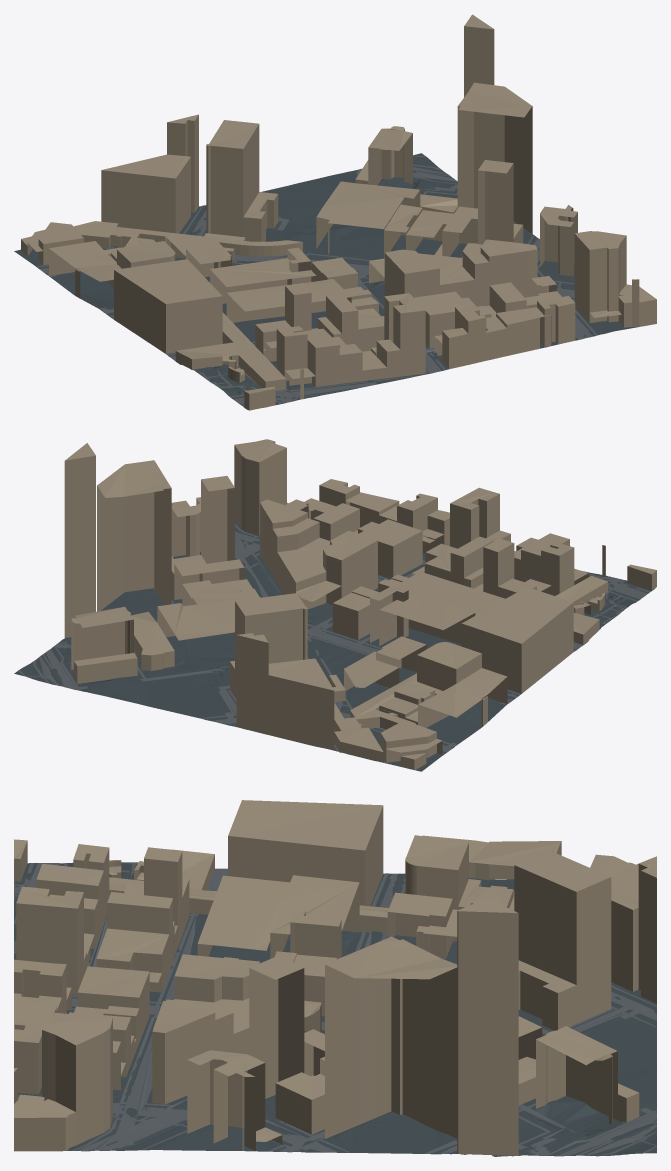
Rendered from epsg26910-1438-10891.lod0.glb.
3 views of the same model, one above another, from view 1: azimuth 30°, elevation 25°; view 2: azimuth 150°, elevation 25°; view 3: azimuth 270°, elevation 25° (orthographic). The views are drawn at different scales.
Visible parts, largest first — view 1: epsg26910-1438-10891-lod0; view 2: epsg26910-1438-10891-lod0; view 3: epsg26910-1438-10891-lod0.
Part boxes in pixels (x1,y1,x2,y2): epsg26910-1438-10891-lod0: [14, 14, 656, 410]; epsg26910-1438-10891-lod0: [14, 439, 656, 771]; epsg26910-1438-10891-lod0: [14, 800, 656, 1156].
Bounding box in the file's own units: 384 × 164 × 384.
